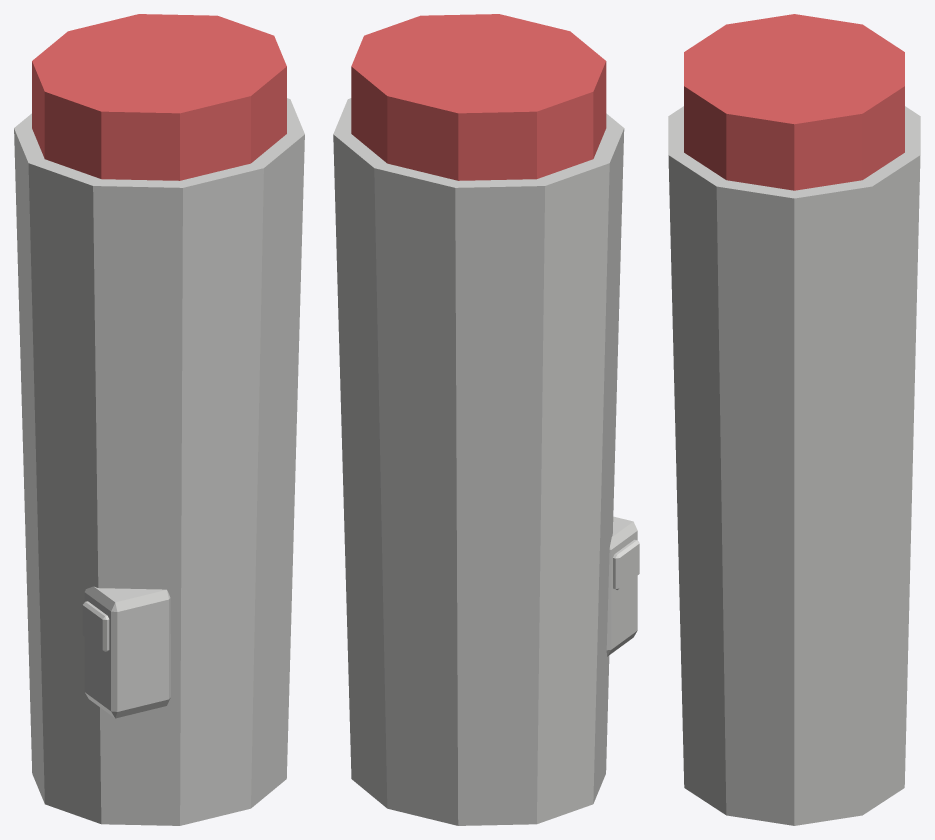
File: b16_square_juice_bottle.glb
3 renders of one model, left to right at view 1: azimuth 30°, elevation 25°; view 2: azimuth 150°, elevation 25°; view 3: azimuth 270°, elevation 25°, orthographic.
Parts seen in each view (by area): view 1: b16_square_juice_bottle; view 2: b16_square_juice_bottle; view 3: b16_square_juice_bottle.
Part boxes in pixels (x1,y1,x2,y2): b16_square_juice_bottle: (14,14,304,825); b16_square_juice_bottle: (333,14,639,825); b16_square_juice_bottle: (668,14,920,825).
Bounding box in the file's own units: 0.065 × 0.169 × 0.055.
